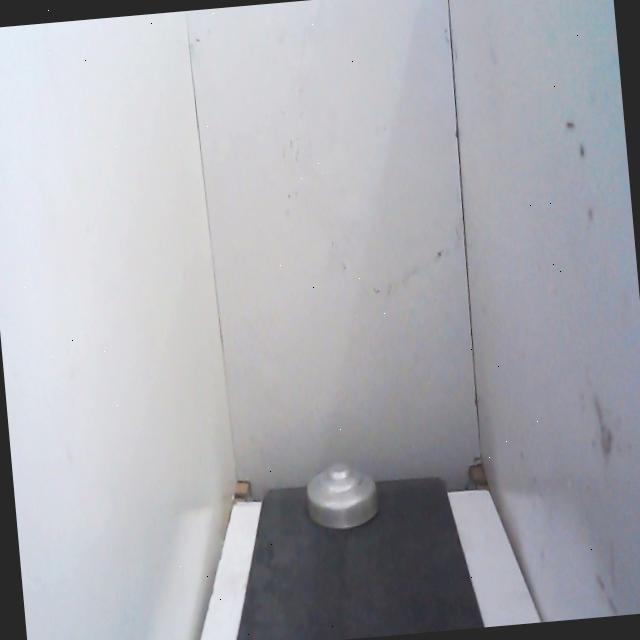metal: (297, 446, 385, 540)
